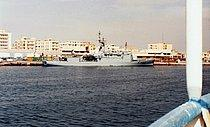MIL_Ship: (42, 39, 154, 67)
